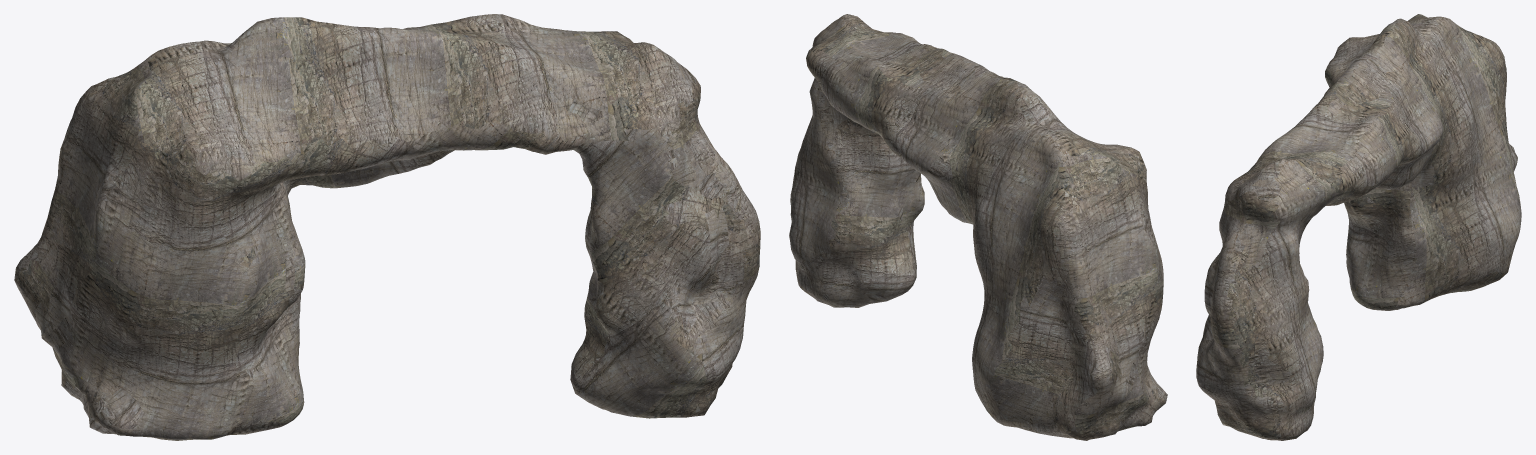
File: stone_arc_b.fbx
The picture shows the model from 3 angles, left to right: view 1: azimuth 30°, elevation 25°; view 2: azimuth 150°, elevation 25°; view 3: azimuth 270°, elevation 25°; orthographic projection. The views are drawn at different scales.
Parts seen in each view (by area): view 1: stone_b_arc_1; view 2: stone_b_arc_1; view 3: stone_b_arc_1.
Boxes of the visible parts, x1=… form: stone_b_arc_1: x1=14, y1=14, x2=760, y2=440; stone_b_arc_1: x1=789, y1=14, x2=1167, y2=440; stone_b_arc_1: x1=1196, y1=14, x2=1521, y2=440.
Size of the model in its own units: 2274 by 1575 by 1534.
1 material, 1 textured.
